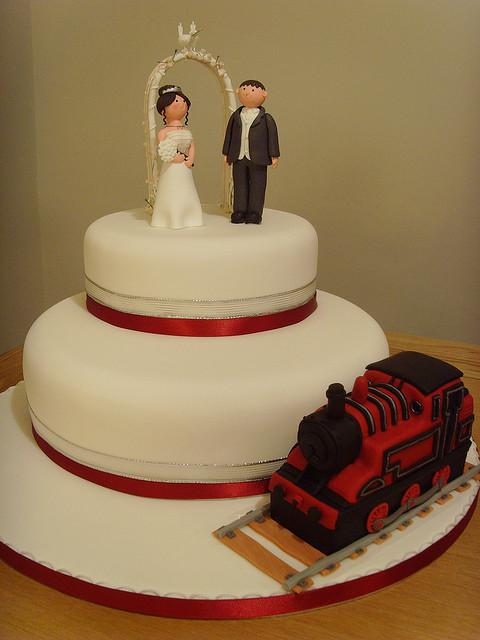Train: (266, 348, 480, 559)
